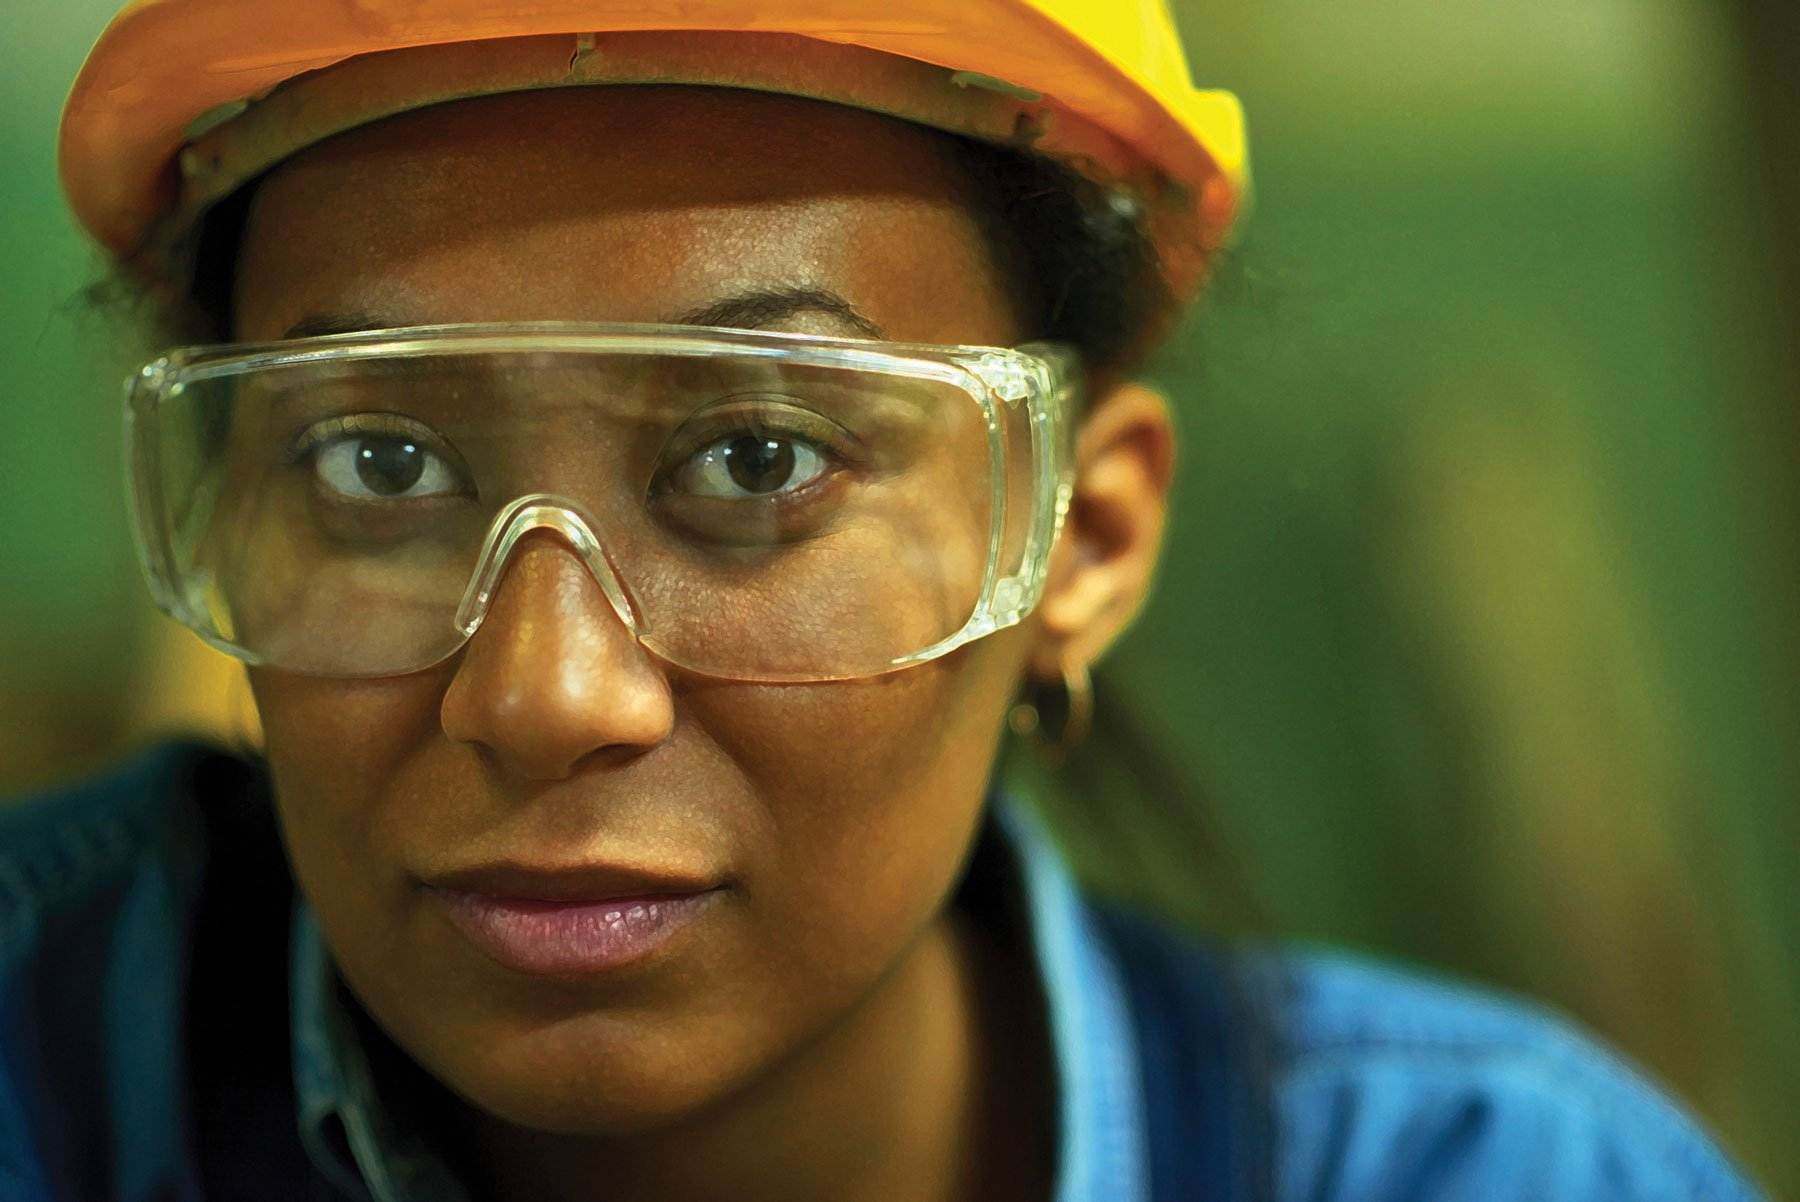Safety Glasses: (82, 303, 1073, 673)
